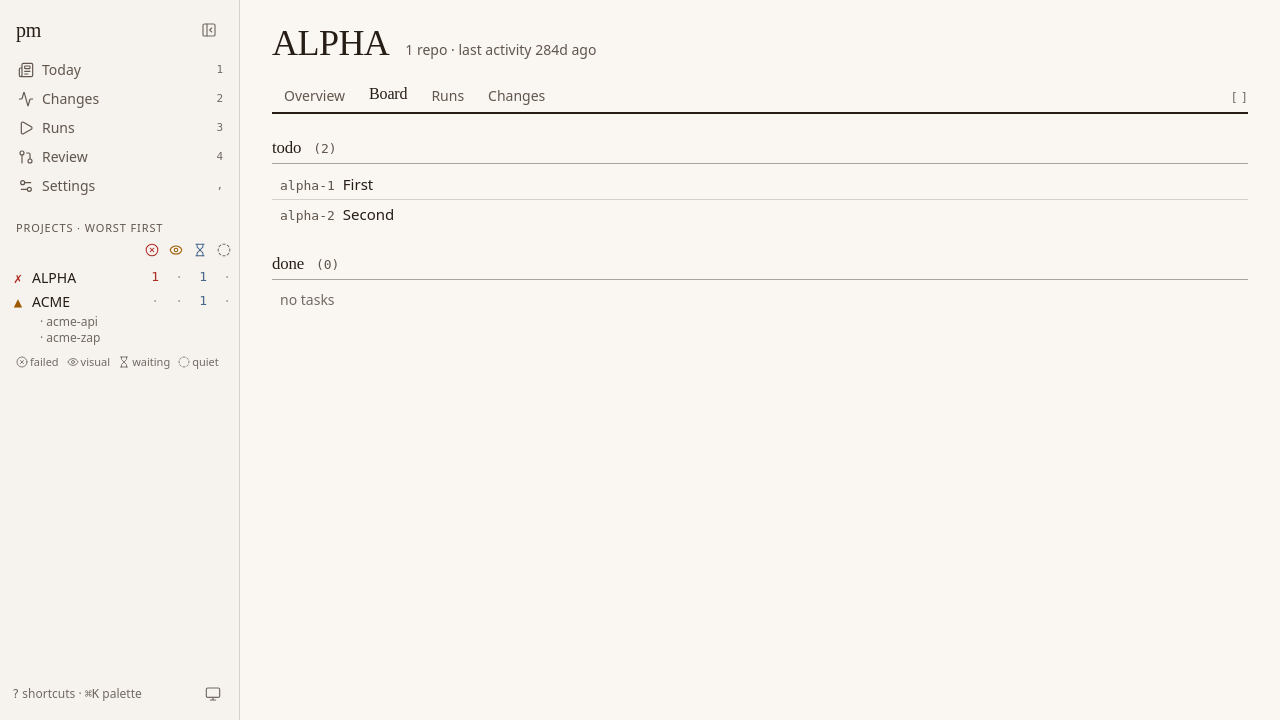
palette › opens on cmd+k, filters by title, and navigates on select
Expected: the text "Second" is shown, [343,204,394,226]
Type keys "{Meta>}k{/Meta}"
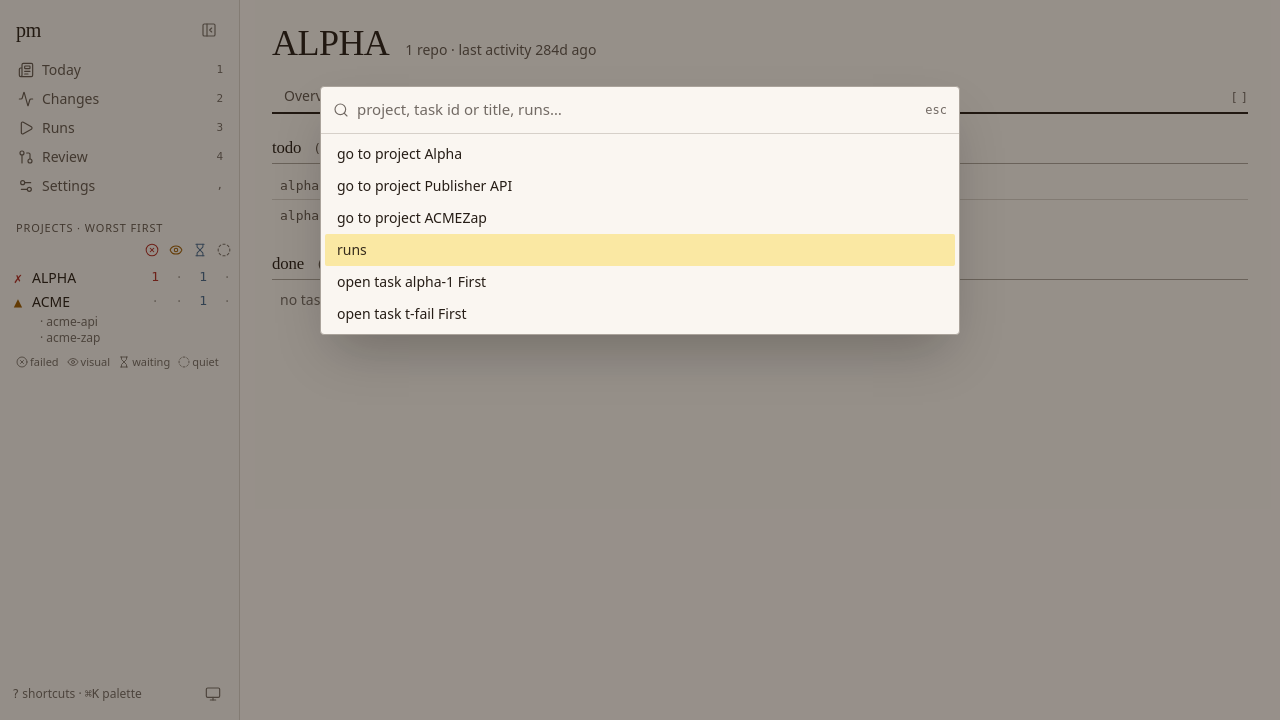
Now the option "go to project Alpha" is shown, box [337,144,462,163]
Now the option "runs" is shown, box [325,234,955,266]
Type "sec" into the dropdown at coordinates (637, 110), box [357,87,917,133]
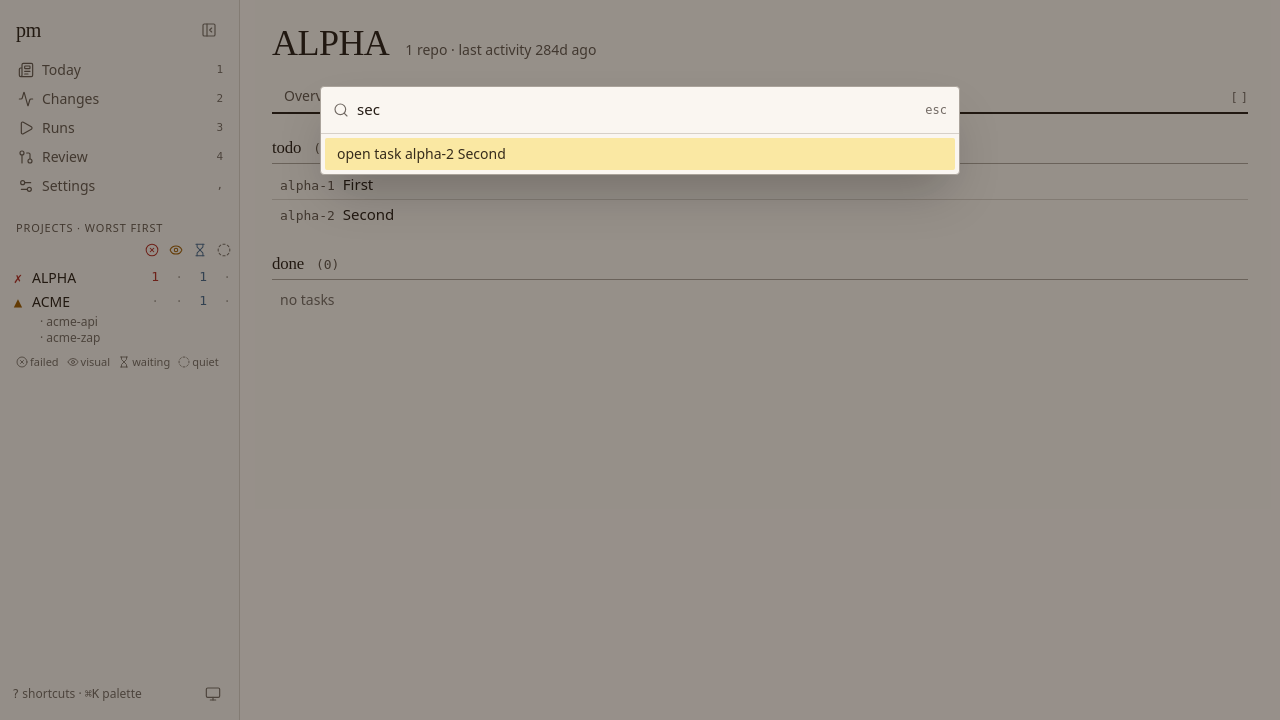
Now the option "open task alpha-2 Second" is shown
Now the option "open task alpha-1 First" is gone
Now the option "go to project Alpha" is gone
Click the option "open task alpha-2 Second" at coordinates (421, 154), box [325,138,955,170]
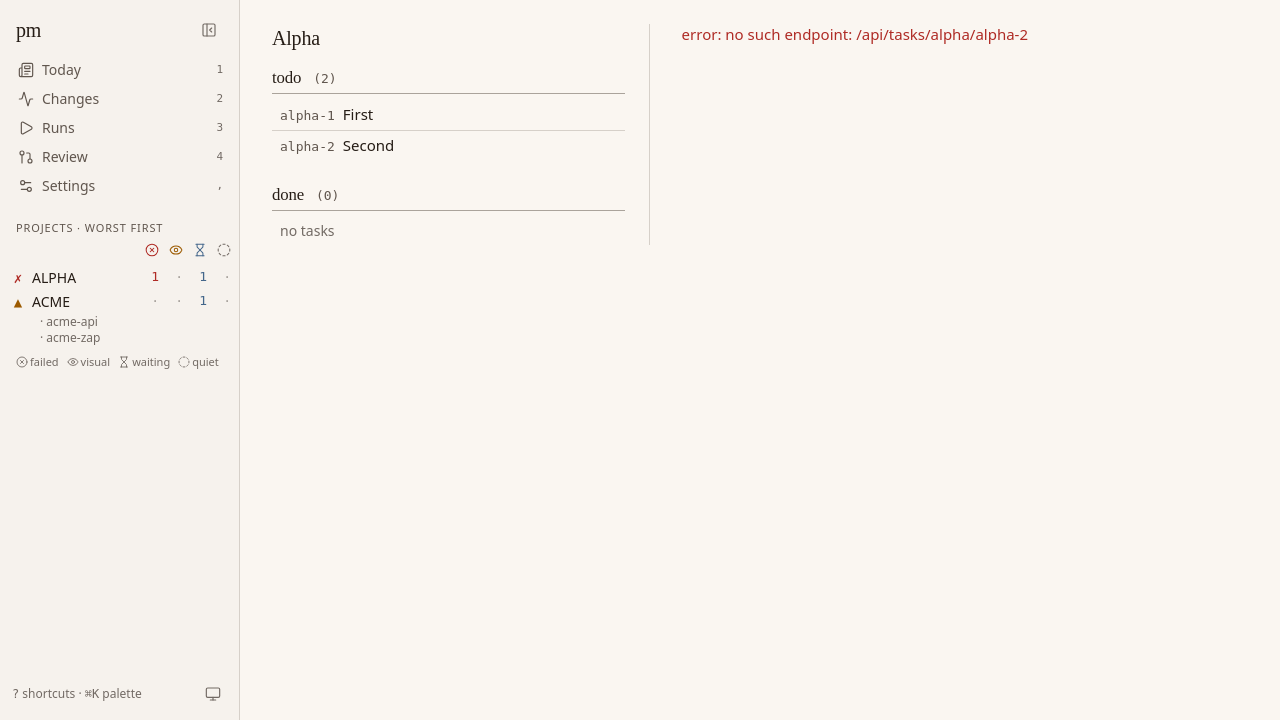
Now the text "error: no such endpoint: /api/tasks/alpha/alpha-2" is shown, box [682,24,1028,44]
